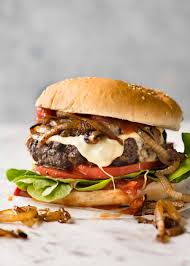hamburger: (23, 76, 185, 210)
